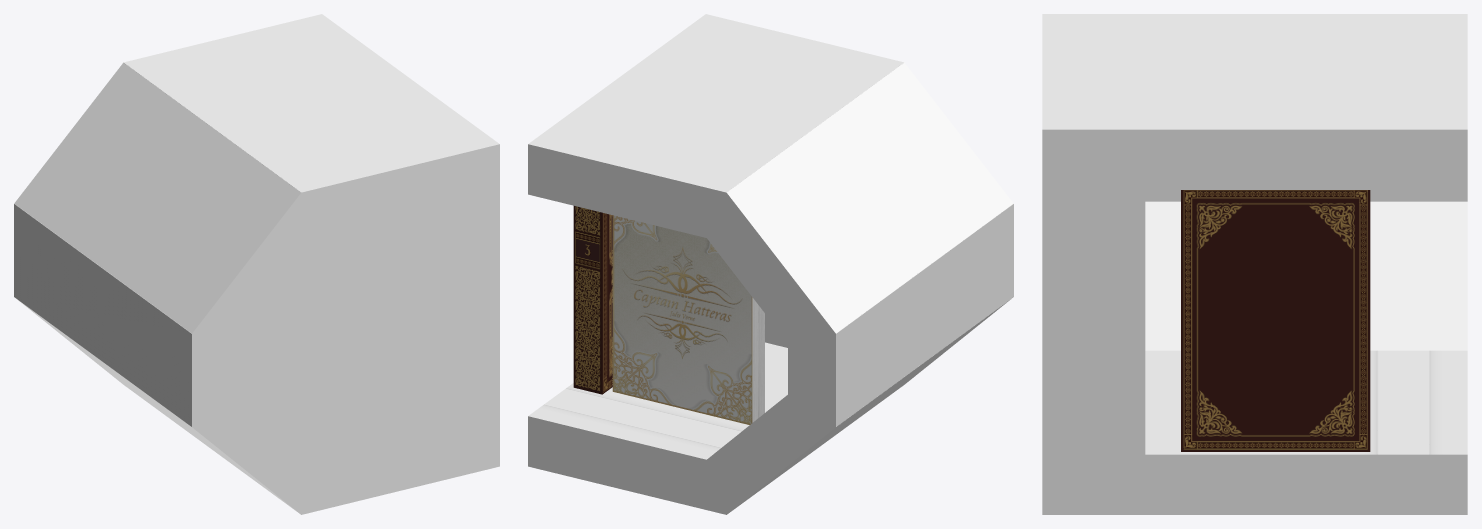
The model's file is bookshelf_end2.obj.
The picture shows the model from 3 angles, left to right: view 1: azimuth 30°, elevation 25°; view 2: azimuth 150°, elevation 25°; view 3: azimuth 270°, elevation 25°; orthographic projection. The views are drawn at different scales.
Visible parts, largest first — view 1: cube.038, cube.039, cube.035, cube.036, cube.037, cube.040, cube.041; view 2: cube.039, cube.035, cube.042, cube.036, cube.040, cube.037, cube.043; view 3: cube.035, cube.043, cube.040, cube.038, cube.037, cube.036.
Part boxes in pixels (x1,y1,x2,y2): cube.038: (255, 194, 499, 474); cube.039: (14, 62, 334, 360); cube.035: (124, 14, 499, 242); cube.036: (14, 203, 239, 426); cube.037: (16, 298, 334, 514); cube.040: (301, 416, 499, 514); cube.041: (239, 323, 256, 408); cube.039: (693, 62, 1013, 360); cube.035: (528, 14, 903, 242); cube.042: (612, 215, 764, 424); cube.036: (788, 203, 1013, 426); cube.040: (528, 342, 787, 514); cube.037: (693, 298, 1011, 514); cube.043: (573, 206, 612, 394); cube.035: (1042, 14, 1467, 189); cube.043: (1181, 190, 1370, 451); cube.040: (1042, 350, 1467, 514); cube.038: (1042, 190, 1145, 454); cube.037: (1145, 201, 1467, 350); cube.036: (1145, 190, 1467, 201).
Bounding box in the file's own units: 1 × 1 × 1.
